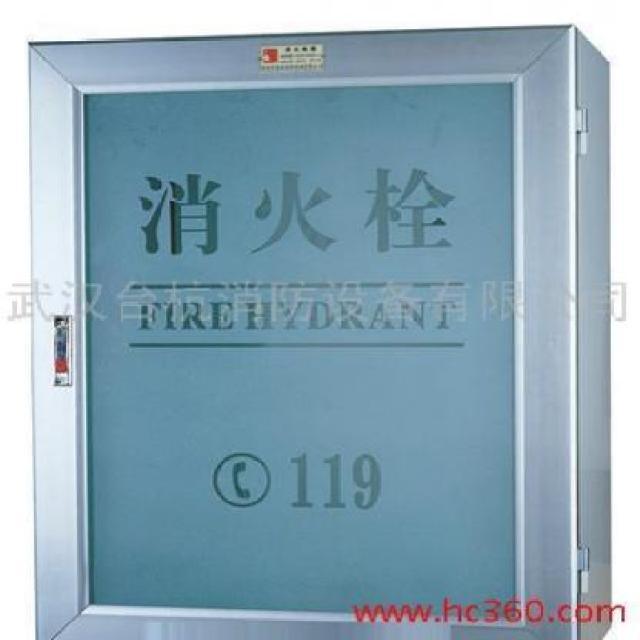firehydrant: (22, 18, 620, 640)
